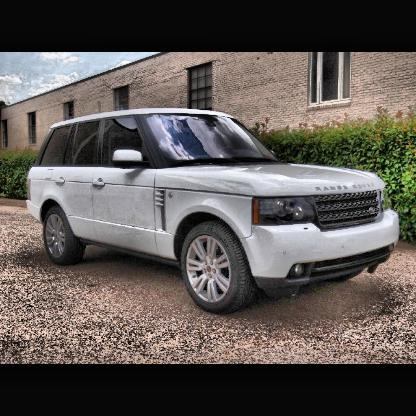Land Rover Range Rover SUV 2012: (28, 109, 403, 318)
